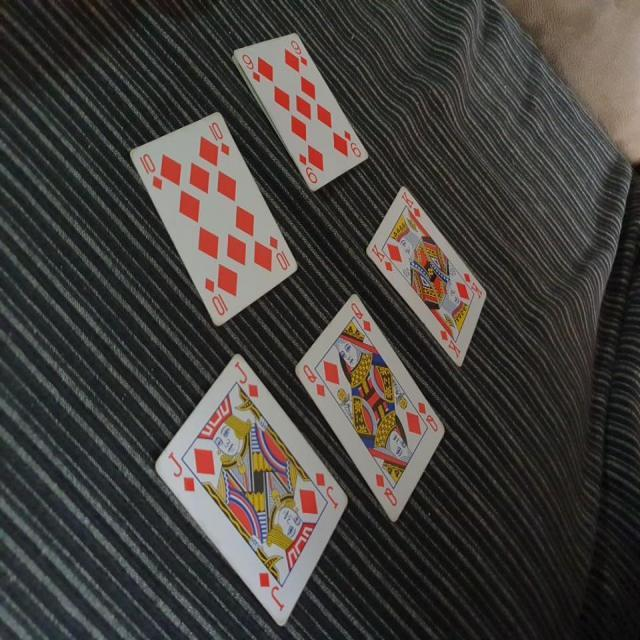10 of diamonds: (129, 109, 302, 331)
9 of diamonds: (232, 28, 368, 188)
jack of diamonds: (152, 350, 348, 625)
king of diamonds: (364, 183, 488, 370)
queen of diamonds: (293, 290, 448, 524)
